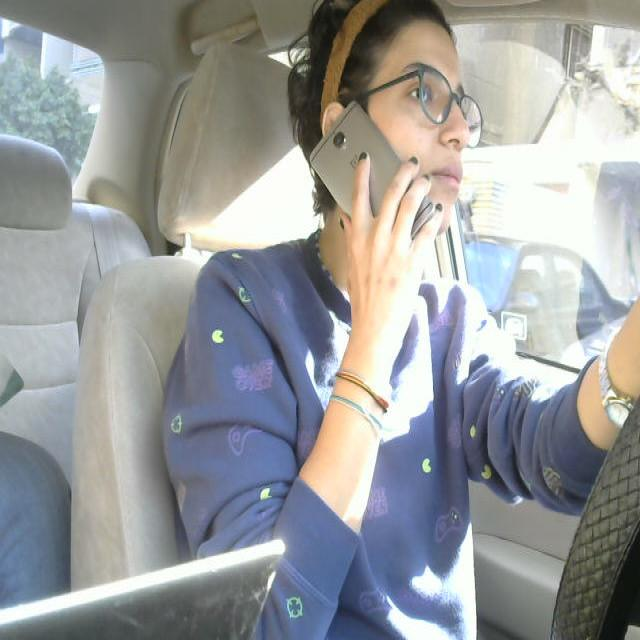mobile use: (303, 99, 439, 264)
